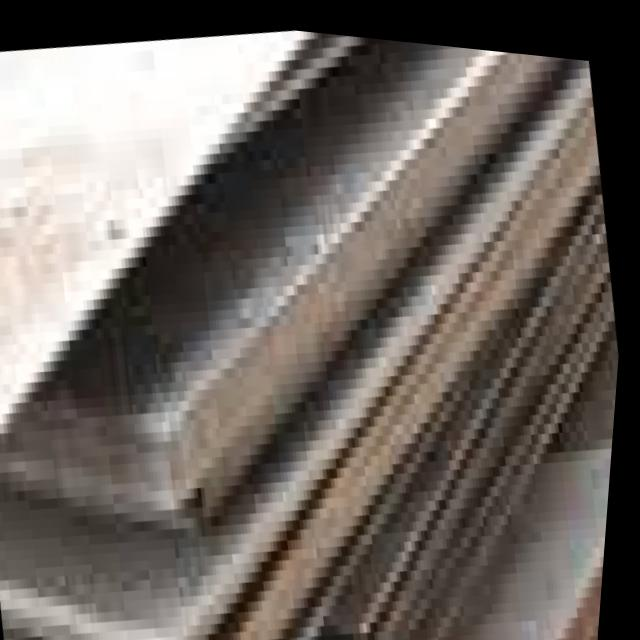metal-plates: (1, 25, 624, 640)
